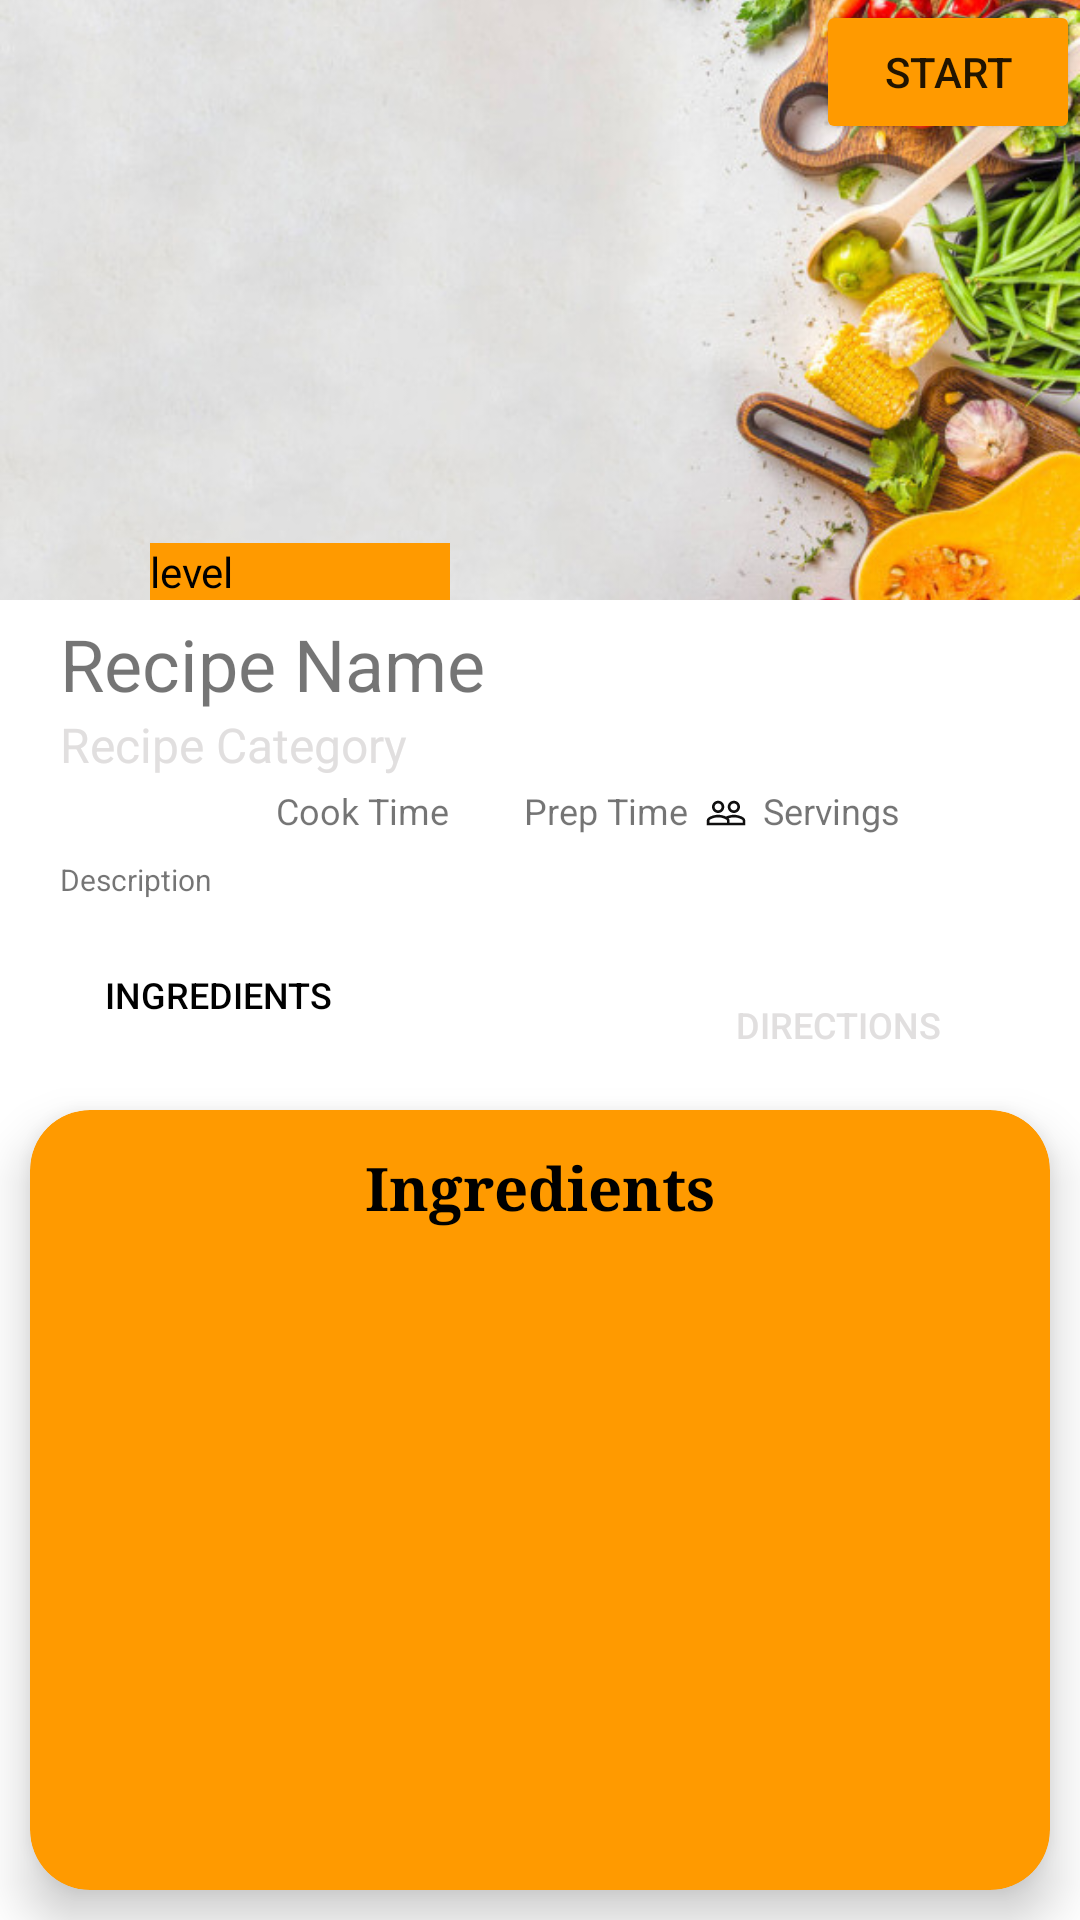

Icon click points for this 1080×1920 phone screenshot, format (x,y):
people: (726,813)
